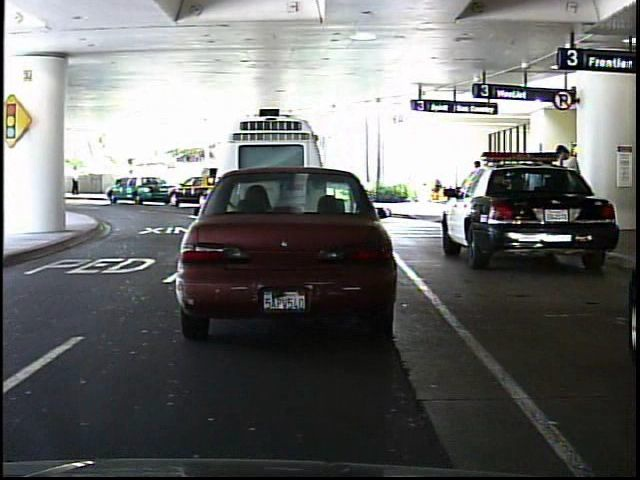person: (552, 137, 586, 241), (123, 167, 142, 199), (72, 162, 84, 198)
